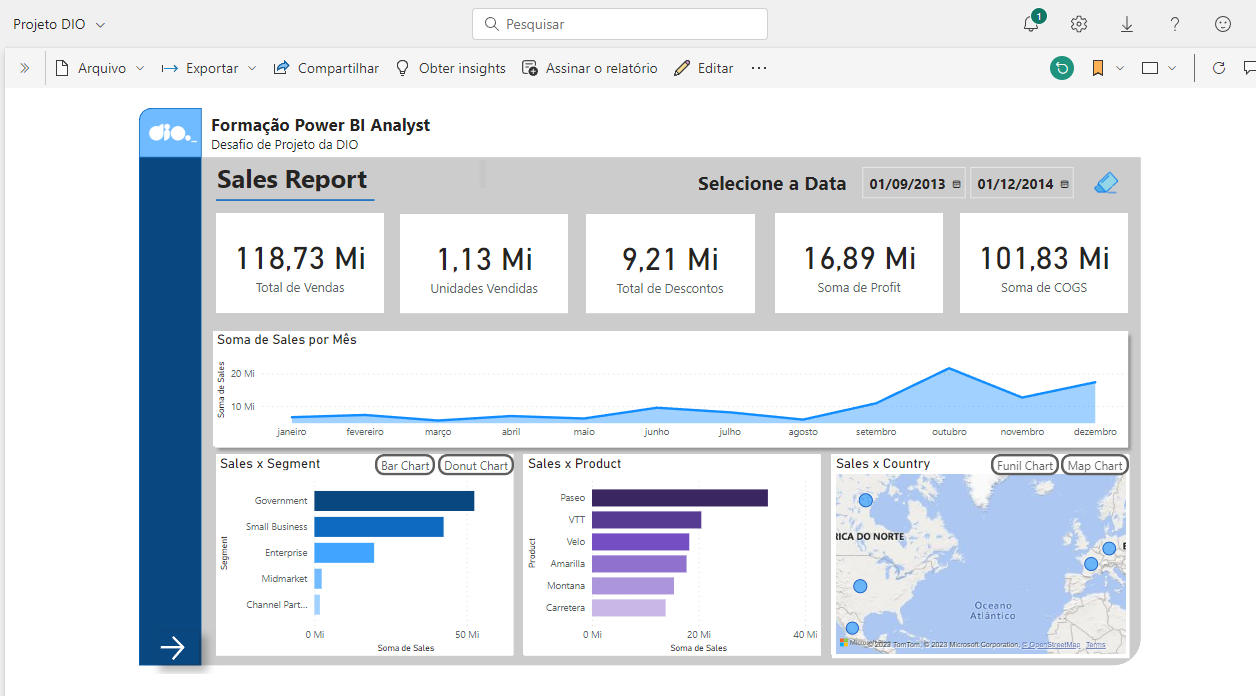

The page's visual inventory and layout, read from the dashboard file:
{"tool":"powerbi","page":{"name":"Página 1","canvas":[1280,720],"ordinal":0},"visuals":[{"type":"shape","box":[17.1,12.9,1251.4,697.1],"z":0},{"type":"image","title":"Clean","box":[1195.7,81.4,57.1,45.7],"z":0,"group":"g3"},{"type":"shape","box":[112.5,106.2,198,42.7],"z":0,"group":"g2"},{"type":"shape","box":[112.6,145.1,210.4,123.7],"z":0,"group":"g1"},{"type":"shape","box":[16.5,12.4,78.4,697.1],"z":1000},{"type":"textbox","box":[109.1,72.1,346.5,49.5],"z":1000,"group":"g2"},{"type":"slicer","fields":{"Values":["financials.Date"]},"box":[907.1,75.7,288.6,61.4],"z":1000,"group":"g3"},{"type":"shape","box":[342.2,145.1,210.4,123.7],"z":1000,"group":"g1"},{"type":"shape","box":[16.5,12.4,78.4,61.9],"z":2000},{"type":"textbox","box":[710,82.8,204.3,45.7],"z":2000,"group":"g3"},{"type":"shape","box":[575.9,145.1,210.4,123.7],"z":2000,"group":"g1"},{"type":"map","title":"Sales x Country","fields":{"Category":["financials.Country"],"Size":["Sum(financials. Sales)"]},"box":[882,446,372,254],"z":2500,"group":"g4"},{"type":"shape","box":[94.9,12.4,1174.1,61.9],"z":3000},{"type":"actionButton","box":[1204.3,84.3,40,40],"z":3000,"group":"g3"},{"type":"shape","box":[811,145.1,210.4,123.7],"z":3000,"group":"g1"},{"type":"clusteredBarChart","title":"Sales x Segment","fields":{"Category":["financials.Segment"],"Y":["Sum(financials. Sales)"]},"box":[112.9,445.7,371.4,251.4],"z":3125,"group":"g5"},{"type":"actionButton","title":"Botão Bar","box":[311.7,445,75,26.7],"z":3250,"group":"g5"},{"type":"actionButton","title":"Botão Funil","box":[1080.7,445,85,26.7],"z":3250,"group":"g4"},{"type":"actionButton","title":"Botão Donut","box":[390,445,95,26.7],"z":3500,"group":"g5"},{"type":"actionButton","title":"Botão Map","box":[1169,445,85,26.7],"z":3500,"group":"g4"},{"type":"textbox","box":[101.4,14.3,345.7,61.4],"z":4000},{"type":"shape","box":[1042,145.1,210.4,123.7],"z":4000,"group":"g1"},{"type":"image","title":"DIO","box":[23.4,6.9,70.1,74.2],"z":5000},{"type":"card","fields":{"Values":["Sum(financials. Sales)"]},"box":[112.8,144.3,210,124.3],"z":5000,"group":"g1"},{"type":"group","id":"g1","title":"Cards","box":[112.6,144.3,1140.2,125.7],"z":6000},{"type":"card","fields":{"Values":["Sum(financials.Units Sold)"]},"box":[342.8,145.7,210,124.3],"z":6000,"group":"g1"},{"type":"card","fields":{"Values":["Sum(financials.Discounts)"]},"box":[575.7,145.7,210,124.3],"z":7000,"group":"g1"},{"type":"shape","box":[102.4,283.3,1158.8,162.1],"z":7000},{"type":"group","id":"g2","title":"Titulo","box":[109.1,72.1,346.5,76.8],"z":8000},{"type":"card","fields":{"Values":["Sum(financials.Profit)"]},"box":[811.4,144.3,210,124.3],"z":8000,"group":"g1"},{"type":"card","fields":{"Values":["Sum(financials.COGS)"]},"box":[1042.8,144.3,210,124.3],"z":9000,"group":"g1"},{"type":"shape","box":[112.6,445.4,372.1,250.9],"z":9000},{"type":"shape","box":[496.6,445.4,372.1,250.9],"z":10000},{"type":"shape","box":[880.6,445.4,372.1,250.9],"z":11000},{"type":"areaChart","fields":{"Category":["financials.Date.Variation.Hierarquia de datas.Mês"],"Y":["Sum(financials. Sales)"]},"box":[108.6,291.4,1144.3,144.3],"z":12000},{"type":"clusteredBarChart","title":"Sales x Product","fields":{"Category":["financials.Product"],"Y":["Sum(financials. Sales)"]},"box":[497.1,445.7,371.4,251.4],"z":13000},{"type":"group","id":"g3","title":"Filtro Data","box":[710,75.7,542.9,61.4],"z":14000},{"type":"group","id":"g4","title":"Sales x Country","box":[880,445,374,255],"z":15000},{"type":"group","id":"g5","title":"Sales x Segment","box":[112.9,445,372.1,252.1],"z":16000},{"type":"actionButton","title":"Botão NextPage","box":[38,668,54,40],"z":17000}]}

Visuals, with their boxes on the page's 1280x720 design canvas (x1, y1, x2, y2). These are canvas units, not pixel positions in the 1256x696 screenshot, which may show the page scaled, cropped or inside an application window:
shape: <box>17,13,1268,710</box>
"Clean" image: <box>1196,81,1253,127</box>
shape: <box>112,106,310,149</box>
shape: <box>113,145,323,269</box>
shape: <box>16,12,95,710</box>
textbox: <box>109,72,456,122</box>
slicer - financials.Date: <box>907,76,1196,137</box>
shape: <box>342,145,553,269</box>
shape: <box>16,12,95,74</box>
textbox: <box>710,83,914,128</box>
shape: <box>576,145,786,269</box>
"Sales x Country" map: <box>882,446,1254,700</box>
shape: <box>95,12,1269,74</box>
actionButton: <box>1204,84,1244,124</box>
shape: <box>811,145,1021,269</box>
"Sales x Segment" clusteredBarChart: <box>113,446,484,697</box>
"Botão Bar" actionButton: <box>312,445,387,472</box>
"Botão Funil" actionButton: <box>1081,445,1166,472</box>
"Botão Donut" actionButton: <box>390,445,485,472</box>
"Botão Map" actionButton: <box>1169,445,1254,472</box>
textbox: <box>101,14,447,76</box>
shape: <box>1042,145,1252,269</box>
"DIO" image: <box>23,7,94,81</box>
card - Sum(financials. Sales): <box>113,144,323,269</box>
"Cards" group: <box>113,144,1253,270</box>
card - Sum(financials.Units Sold): <box>343,146,553,270</box>
card - Sum(financials.Discounts): <box>576,146,786,270</box>
shape: <box>102,283,1261,445</box>
"Titulo" group: <box>109,72,456,149</box>
card - Sum(financials.Profit): <box>811,144,1021,269</box>
card - Sum(financials.COGS): <box>1043,144,1253,269</box>
shape: <box>113,445,485,696</box>
shape: <box>497,445,869,696</box>
shape: <box>881,445,1253,696</box>
areaChart - financials.Date.Variation.Hierarquia de datas.Mês x Sum(financials. Sales): <box>109,291,1253,436</box>
"Sales x Product" clusteredBarChart: <box>497,446,868,697</box>
"Filtro Data" group: <box>710,76,1253,137</box>
"Sales x Country" group: <box>880,445,1254,700</box>
"Sales x Segment" group: <box>113,445,485,697</box>
"Botão NextPage" actionButton: <box>38,668,92,708</box>
